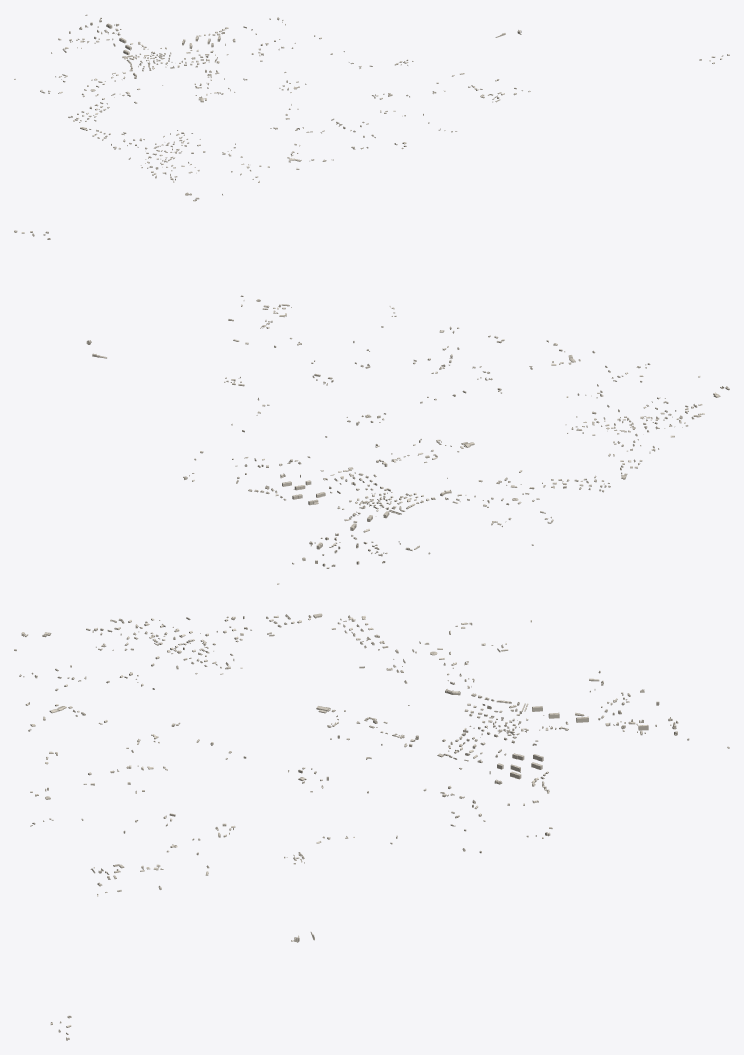
The picture shows the model from 3 angles, top to bottom: view 1: azimuth 30°, elevation 25°; view 2: azimuth 150°, elevation 25°; view 3: azimuth 270°, elevation 25°; orthographic projection. The views are drawn at different scales.
Bounding box in the file's own units: 3973 × 141 × 2861.
